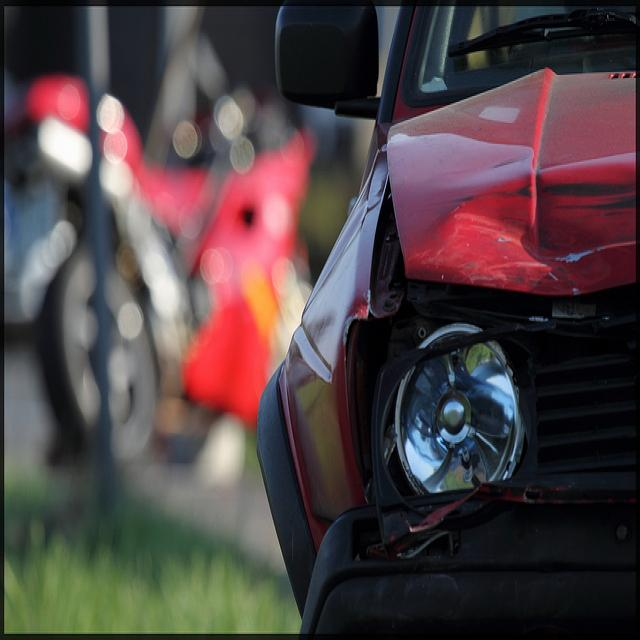motor: (28, 72, 318, 468)
